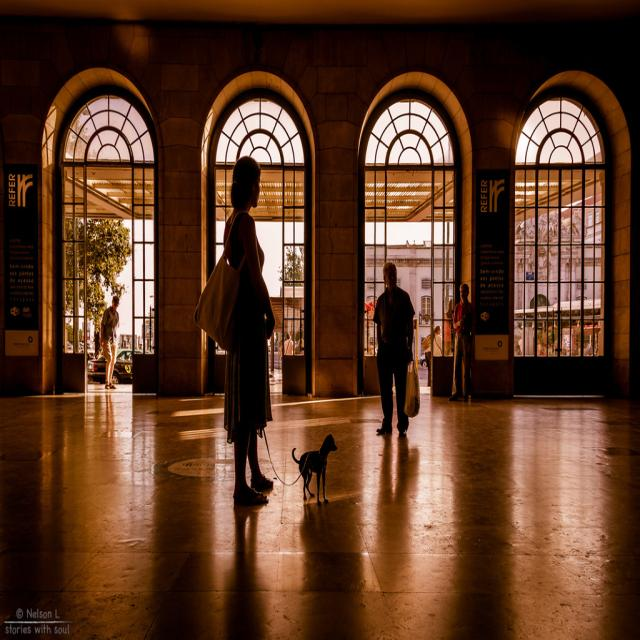door_local: (210, 163, 311, 401), (512, 163, 606, 400), (58, 167, 153, 391), (361, 165, 454, 393)
